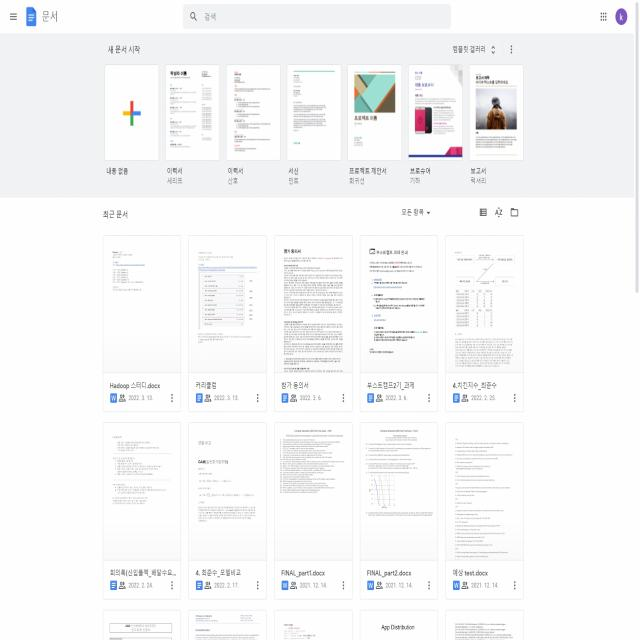menu-bar: (592, 3, 632, 30)
search: (181, 0, 453, 33)
